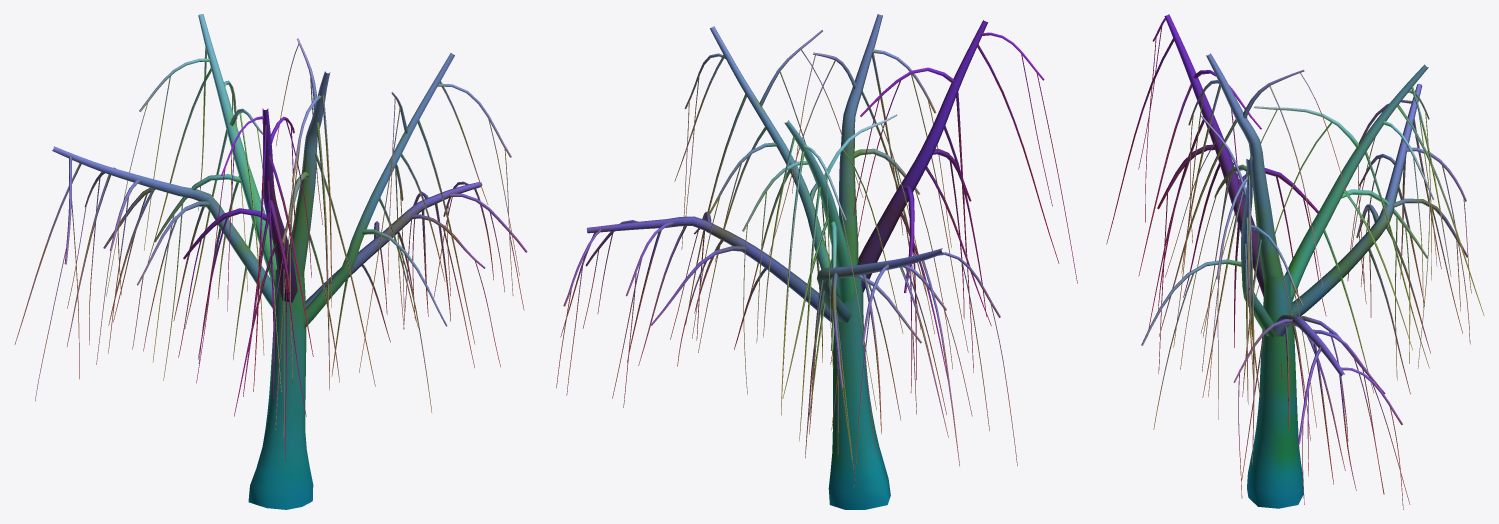
File: sakura-grove-weeping.glb
3 renders of one model, left to right at view 1: azimuth 30°, elevation 25°; view 2: azimuth 150°, elevation 25°; view 3: azimuth 270°, elevation 25°, orthographic. The views are drawn at different scales.
Parts seen in each view (by area): view 1: bark; view 2: bark; view 3: bark.
Part boxes in pixels (x1=…): bark: x1=14, y1=14, x2=527, y2=509; bark: x1=556, y1=14, x2=1077, y2=509; bark: x1=1106, y1=14, x2=1484, y2=509.
Size of the model in its own units: 6.82 by 6.42 by 4.89.
